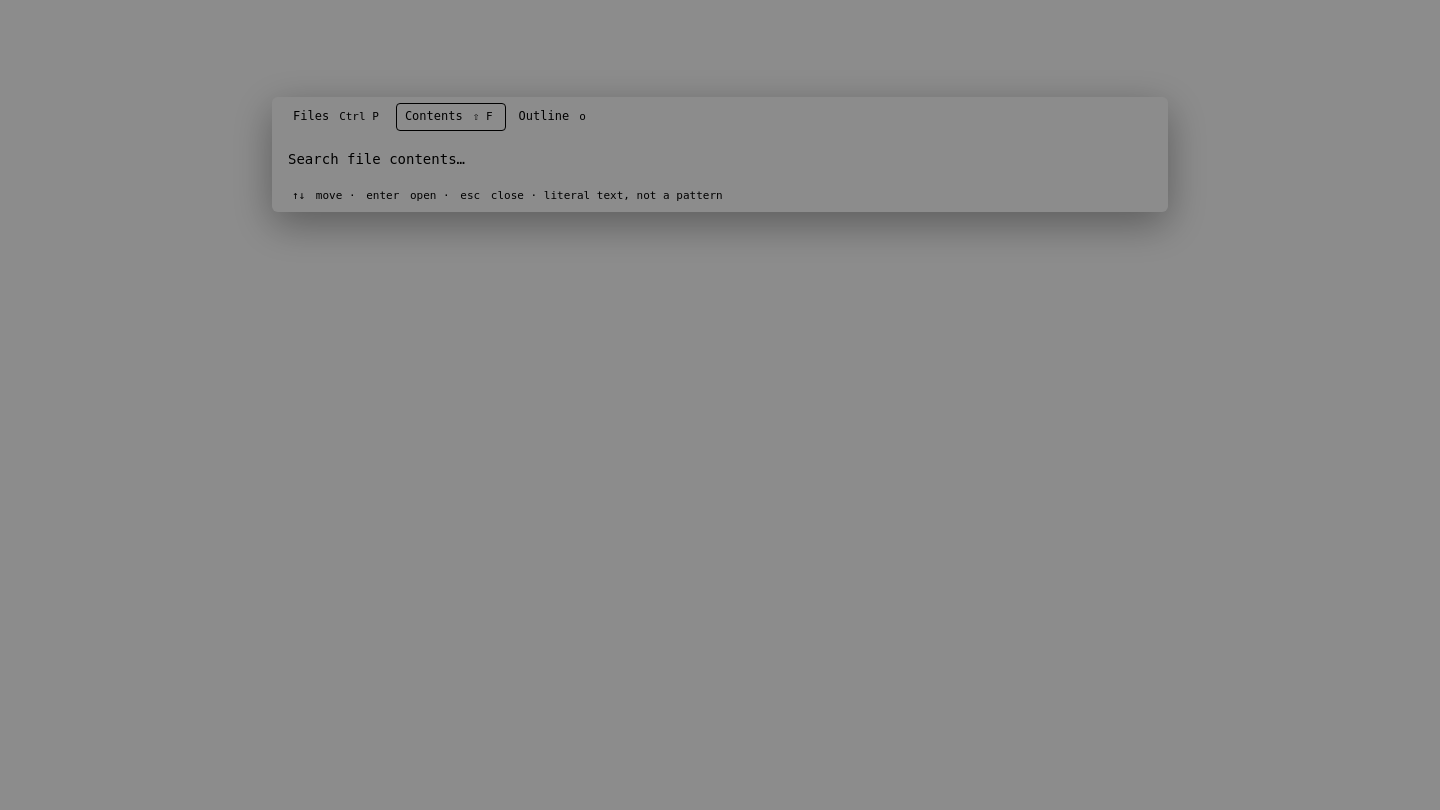
Test: querying › does not search below the minimum query length
Type "ne" into the dropdown with test id "search-input".
click(720, 158); type("ne")  # box left=272, top=137, right=1168, bottom=180
Wait 500 ms
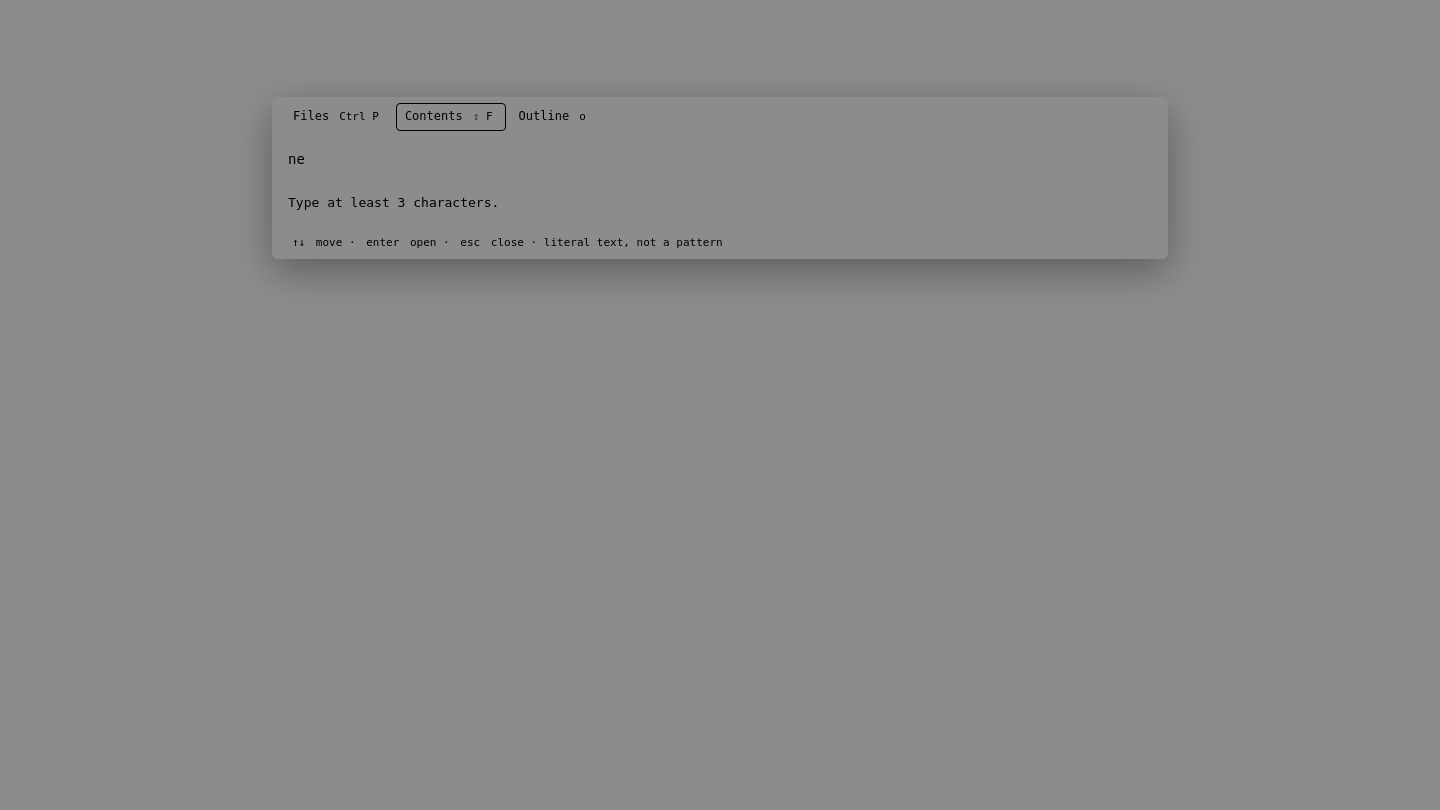
Check: the text "Type at least 3 characters." is shown, box left=288, top=195, right=499, bottom=210
